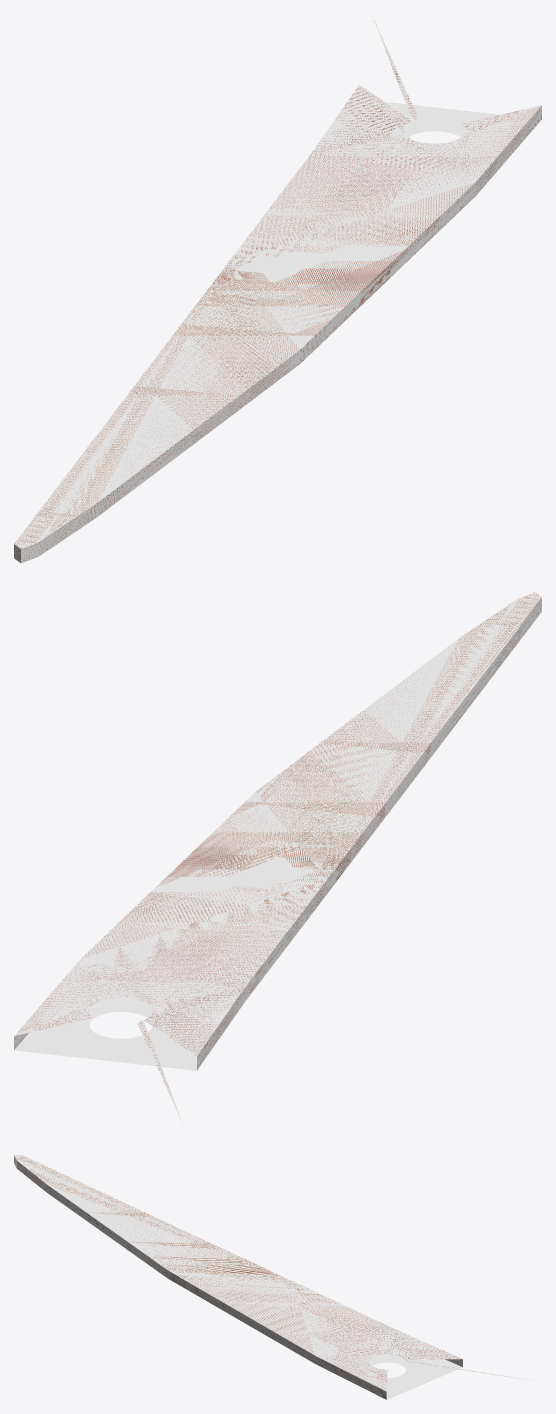
The picture shows the model from 3 angles, top to bottom: view 1: azimuth 30°, elevation 25°; view 2: azimuth 210°, elevation 25°; view 3: azimuth 270°, elevation 25°; orthographic projection. The views are drawn at different scales.
Bounding box in the file's own units: 0.8062 × 0.013 × 0.76.
